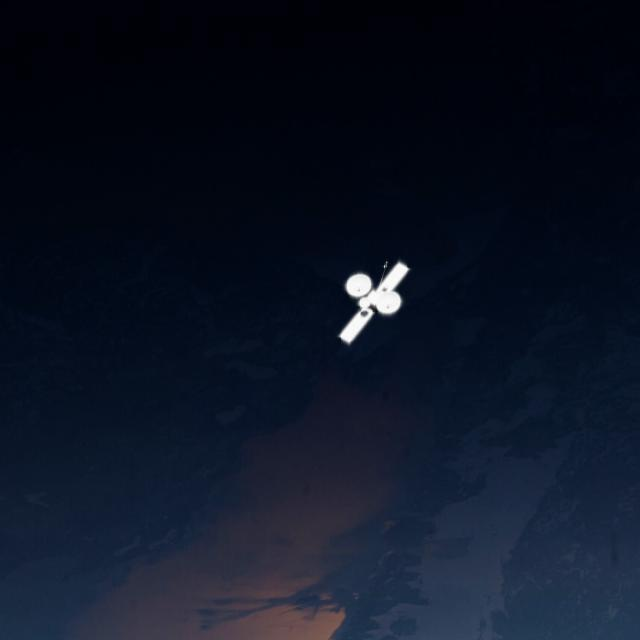satellite: (318, 248, 419, 347)
